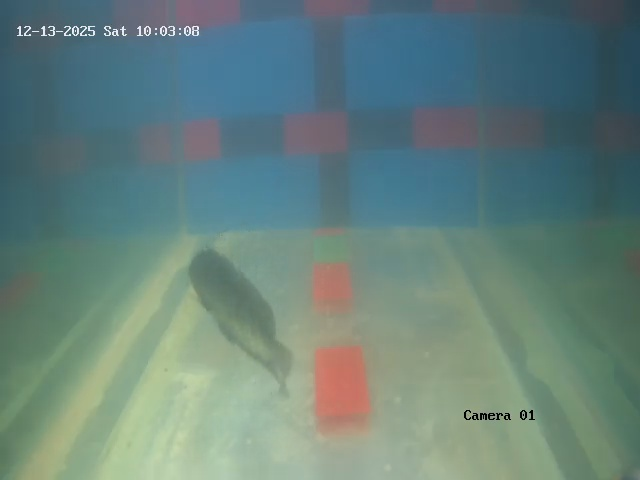fish: (192, 244, 277, 366)
